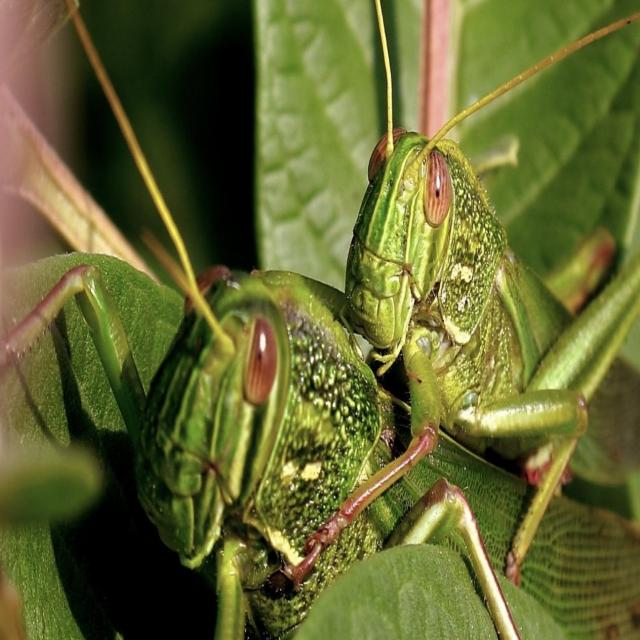ZhaMeng: (352, 103, 626, 554), (128, 258, 450, 639)
